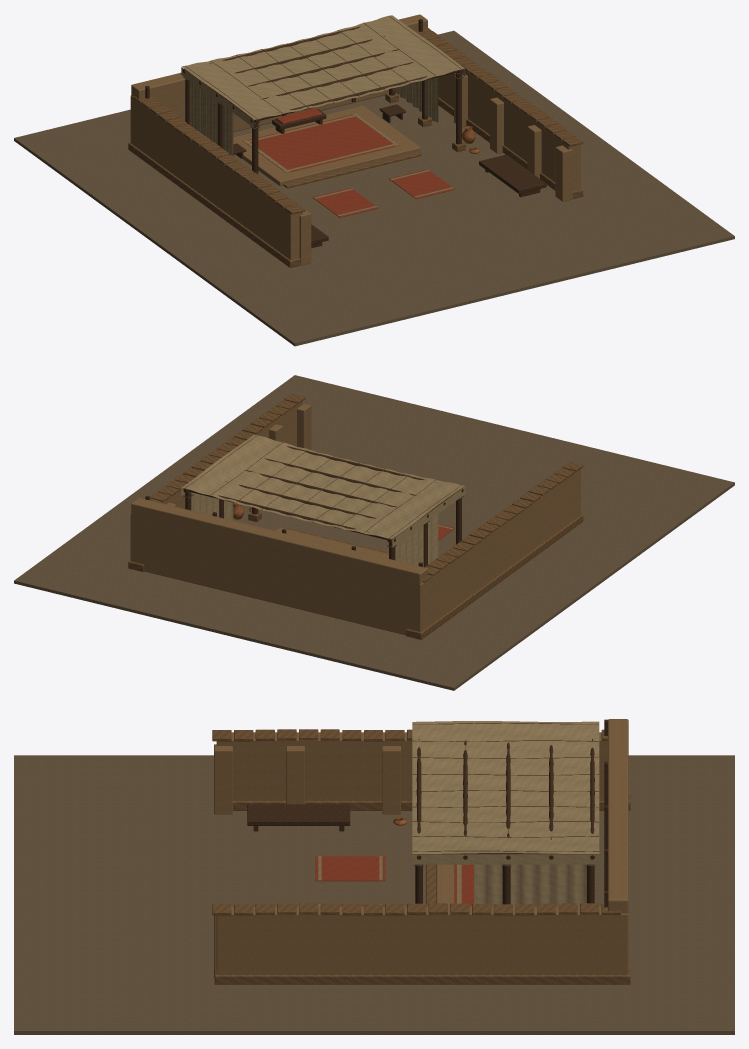
Rendered from reception-court.glb.
The picture shows the model from 3 angles, top to bottom: view 1: azimuth 30°, elevation 25°; view 2: azimuth 150°, elevation 25°; view 3: azimuth 270°, elevation 25°; orthographic projection. The views are drawn at different scales.
Parts seen in each view (by area): view 1: Reception court earth, Reception court plaster, Reception court felt, Reception court brick, Reception court rug, Reception court wood, Reception court border, Reception court rope; view 2: Reception court earth, Reception court plaster, Reception court felt, Reception court brick, Reception court wood, Reception court rope; view 3: Reception court earth, Reception court plaster, Reception court felt, Reception court brick, Reception court wood, Reception court rug, Reception court rope.
Boxes of the visible parts, <box> form: Reception court earth: <box>14,30,734,346</box>; Reception court plaster: <box>130,14,580,265</box>; Reception court felt: <box>181,15,465,156</box>; Reception court brick: <box>128,28,583,267</box>; Reception court rug: <box>243,108,454,217</box>; Reception court wood: <box>145,19,546,248</box>; Reception court border: <box>244,113,453,216</box>; Reception court rope: <box>183,16,463,128</box>; Reception court earth: <box>14,375,734,690</box>; Reception court plaster: <box>130,401,580,635</box>; Reception court felt: <box>181,434,465,566</box>; Reception court brick: <box>128,394,583,639</box>; Reception court wood: <box>145,446,463,567</box>; Reception court rope: <box>183,435,463,547</box>; Reception court earth: <box>14,755,734,1034</box>; Reception court plaster: <box>214,719,628,977</box>; Reception court felt: <box>412,721,599,906</box>; Reception court brick: <box>212,729,630,984</box>; Reception court wood: <box>247,719,608,907</box>; Reception court rug: <box>315,856,473,906</box>; Reception court rope: <box>412,723,598,866</box>.
Bounding box in the file's own units: 19 × 3.54 × 21.
Materials: 9 (9 with a texture image).
